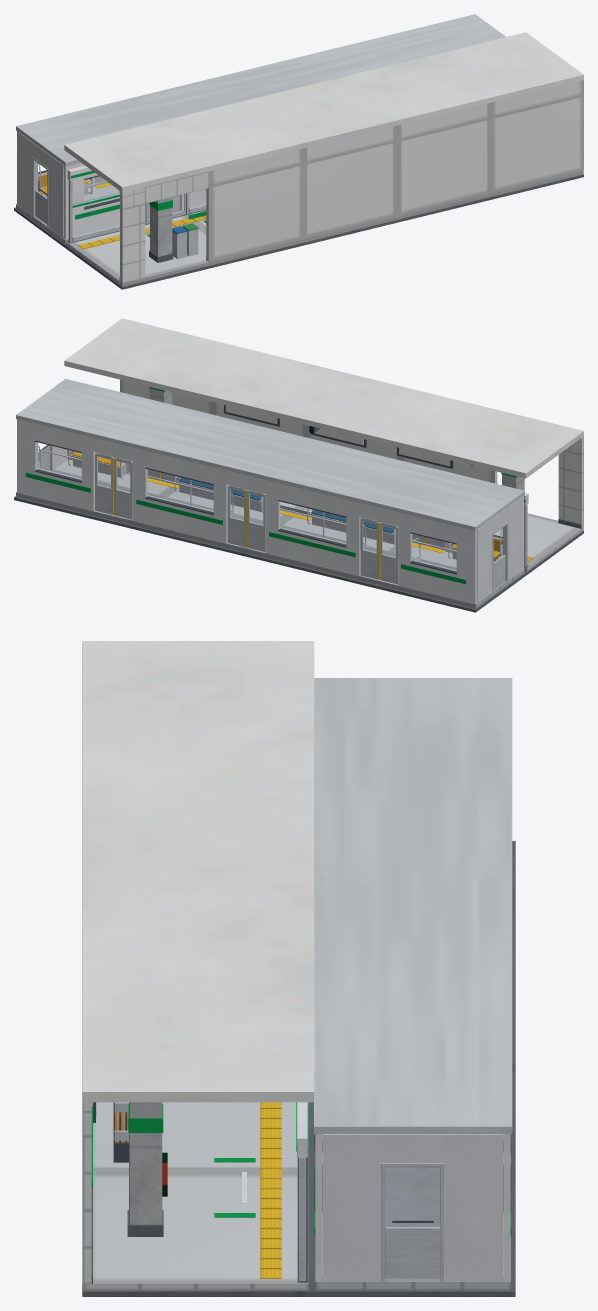
Rendered from desktop.glb.
3 views of the same model, one above another, from view 1: azimuth 30°, elevation 25°; view 2: azimuth 150°, elevation 25°; view 3: azimuth 270°, elevation 25° (orthographic). The views are drawn at different scales.
Parts seen in each view (by area): view 1: BG_Ceiling, BG_Wall_South, BG_Floor, BG_Wall_West, BG_Props_Clutter, BG_Furniture_Hero; view 2: BG_Ceiling, BG_Wall_North, BG_Floor, BG_Wall_South, BG_Furniture_Hero, BG_Wall_West, BG_Wall_East; view 3: BG_Ceiling, BG_Floor, BG_Wall_East, BG_Wall_South, BG_Wall_North, BG_Furniture_Hero.
Boxes of the visible parts, <box> form: BG_Ceiling: <box>16,14,583,192</box>; BG_Wall_South: <box>63,80,583,283</box>; BG_Floor: <box>14,165,583,289</box>; BG_Wall_West: <box>18,132,63,238</box>; BG_Props_Clutter: <box>172,223,198,258</box>; BG_Furniture_Hero: <box>38,163,119,206</box>; BG_Ceiling: <box>16,318,583,530</box>; BG_Wall_North: <box>17,419,476,603</box>; BG_Floor: <box>14,387,583,612</box>; BG_Wall_South: <box>67,379,583,568</box>; BG_Furniture_Hero: <box>37,445,502,571</box>; BG_Wall_West: <box>477,497,522,602</box>; BG_Wall_East: <box>37,442,67,470</box>; BG_Ceiling: <box>82,641,512,1134</box>; BG_Floor: <box>82,841,515,1296</box>; BG_Wall_East: <box>323,1134,502,1281</box>; BG_Wall_South: <box>82,1102,322,1283</box>; BG_Wall_North: <box>503,1134,511,1280</box>; BG_Furniture_Hero: <box>113,1102,128,1162</box>.
Bounding box in the file's own units: 16 × 3.4 × 6.5.
Materials: 4 (4 with a texture image).
